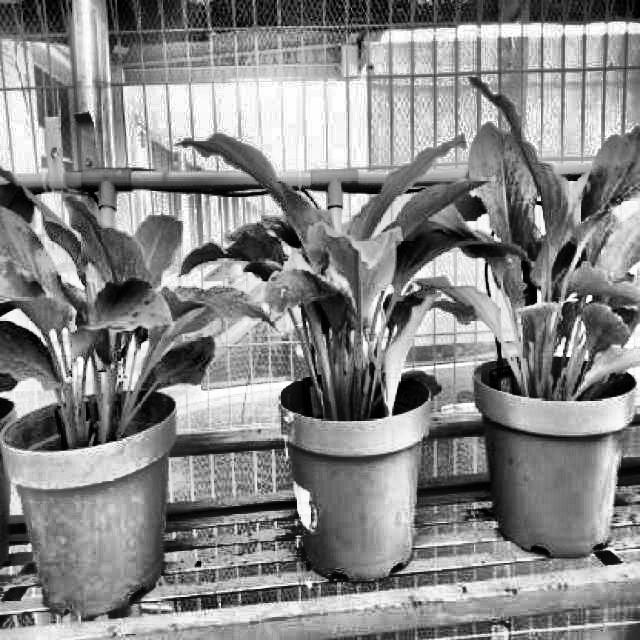plants: (172, 126, 523, 420), (0, 160, 248, 446), (444, 73, 640, 407)
